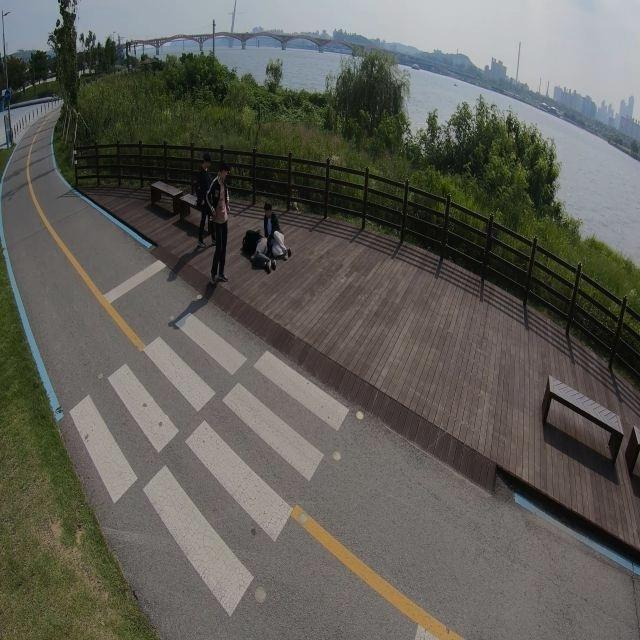non-fight: (205, 163, 231, 282), (193, 154, 217, 246), (262, 203, 290, 260), (242, 228, 276, 272)
